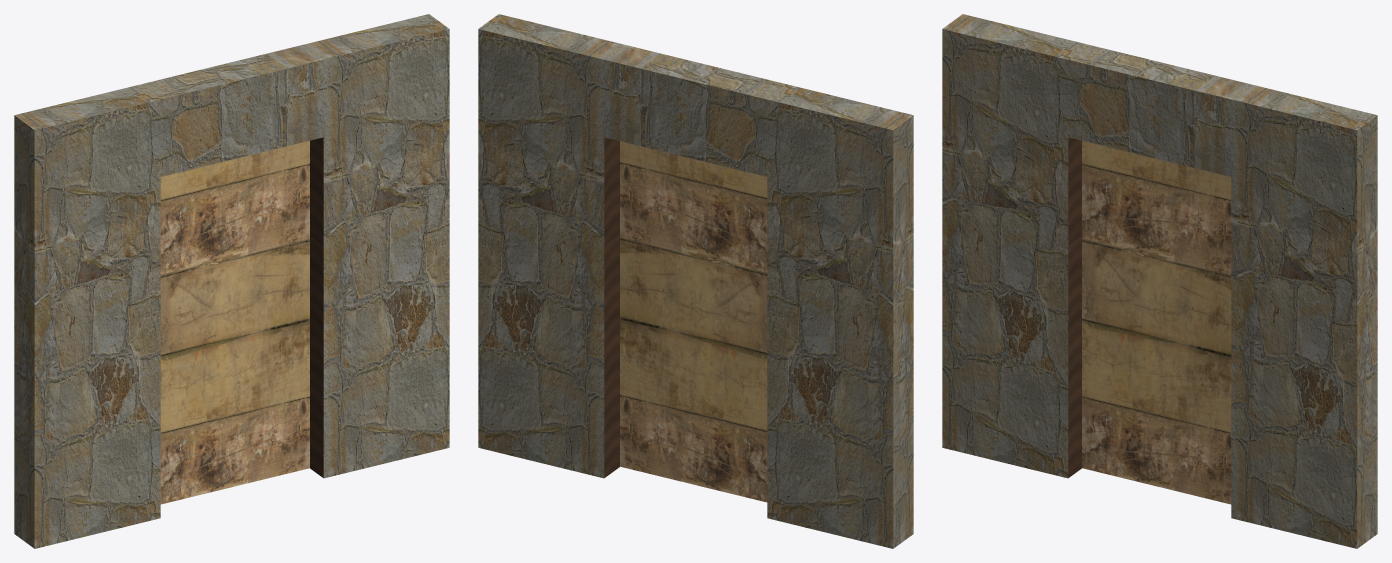
The model's file is opening_door.glb.
3 views of the same model, side by side, from view 1: azimuth 30°, elevation 25°; view 2: azimuth 150°, elevation 25°; view 3: azimuth 330°, elevation 25° (orthographic).
Visible parts, largest first — view 1: opening_door_0; view 2: opening_door_0; view 3: opening_door_0.
Boxes of the visible parts, bbox=[...] form: opening_door_0: bbox=[14, 14, 449, 548]; opening_door_0: bbox=[478, 14, 913, 548]; opening_door_0: bbox=[942, 14, 1377, 548].
Bounding box in the file's own units: 2.8 × 2.7 × 0.24.
Materials: 3 (3 with a texture image).
